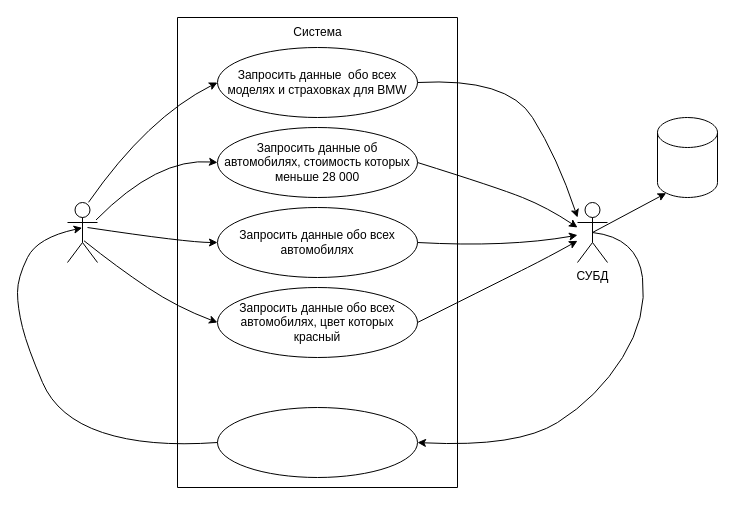
This 735x505 diagram has some shape labels left out. Here are the shapes that lost their labels. From the top down, the box of each, then its label:
(656, 116, 718, 198): БД
(66, 202, 98, 262): Пользователь
(216, 406, 418, 478): Отправление данных, соответствующих запросу
